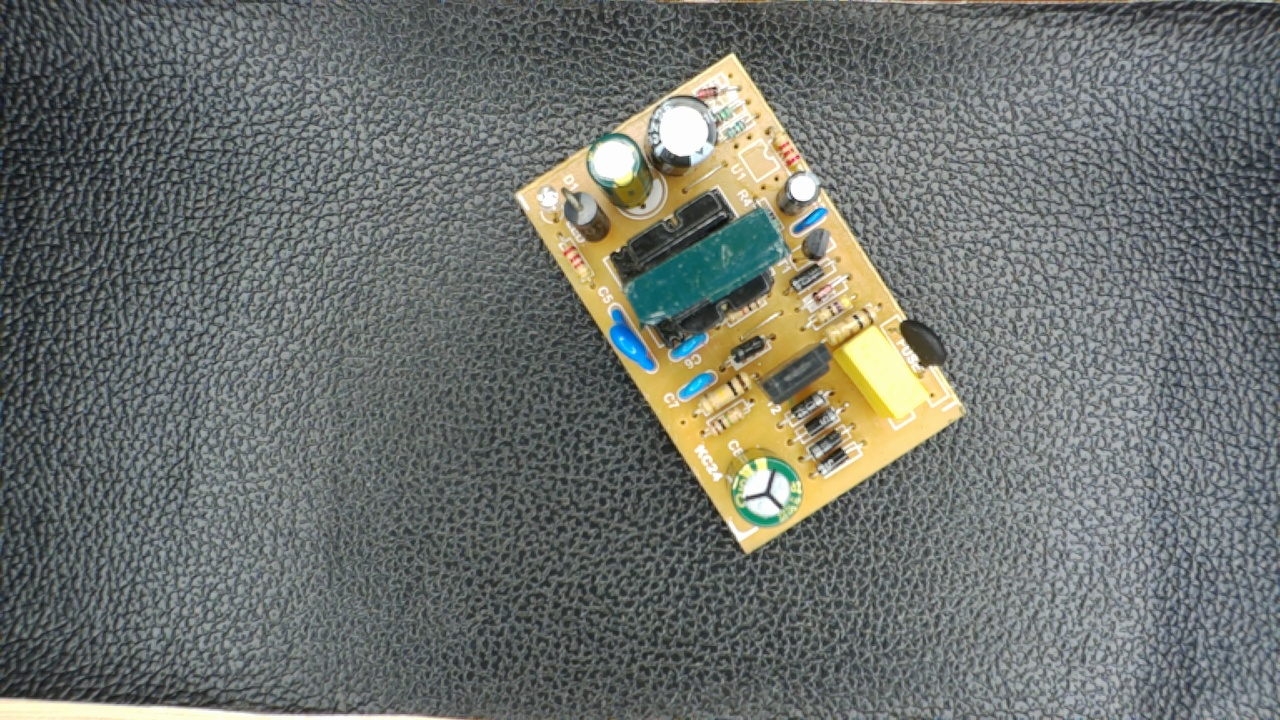fuse: (878, 311, 951, 381)
hv_capacitor: (720, 444, 806, 530)
mov: (603, 300, 660, 377)
